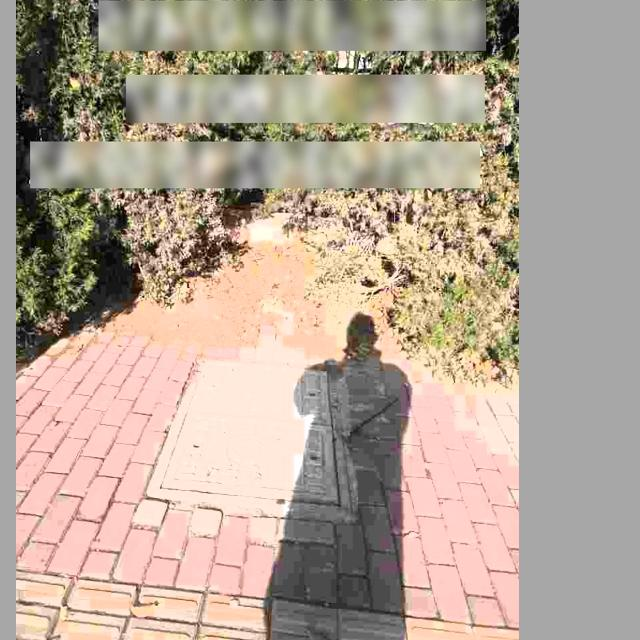good: (146, 353, 350, 518)
